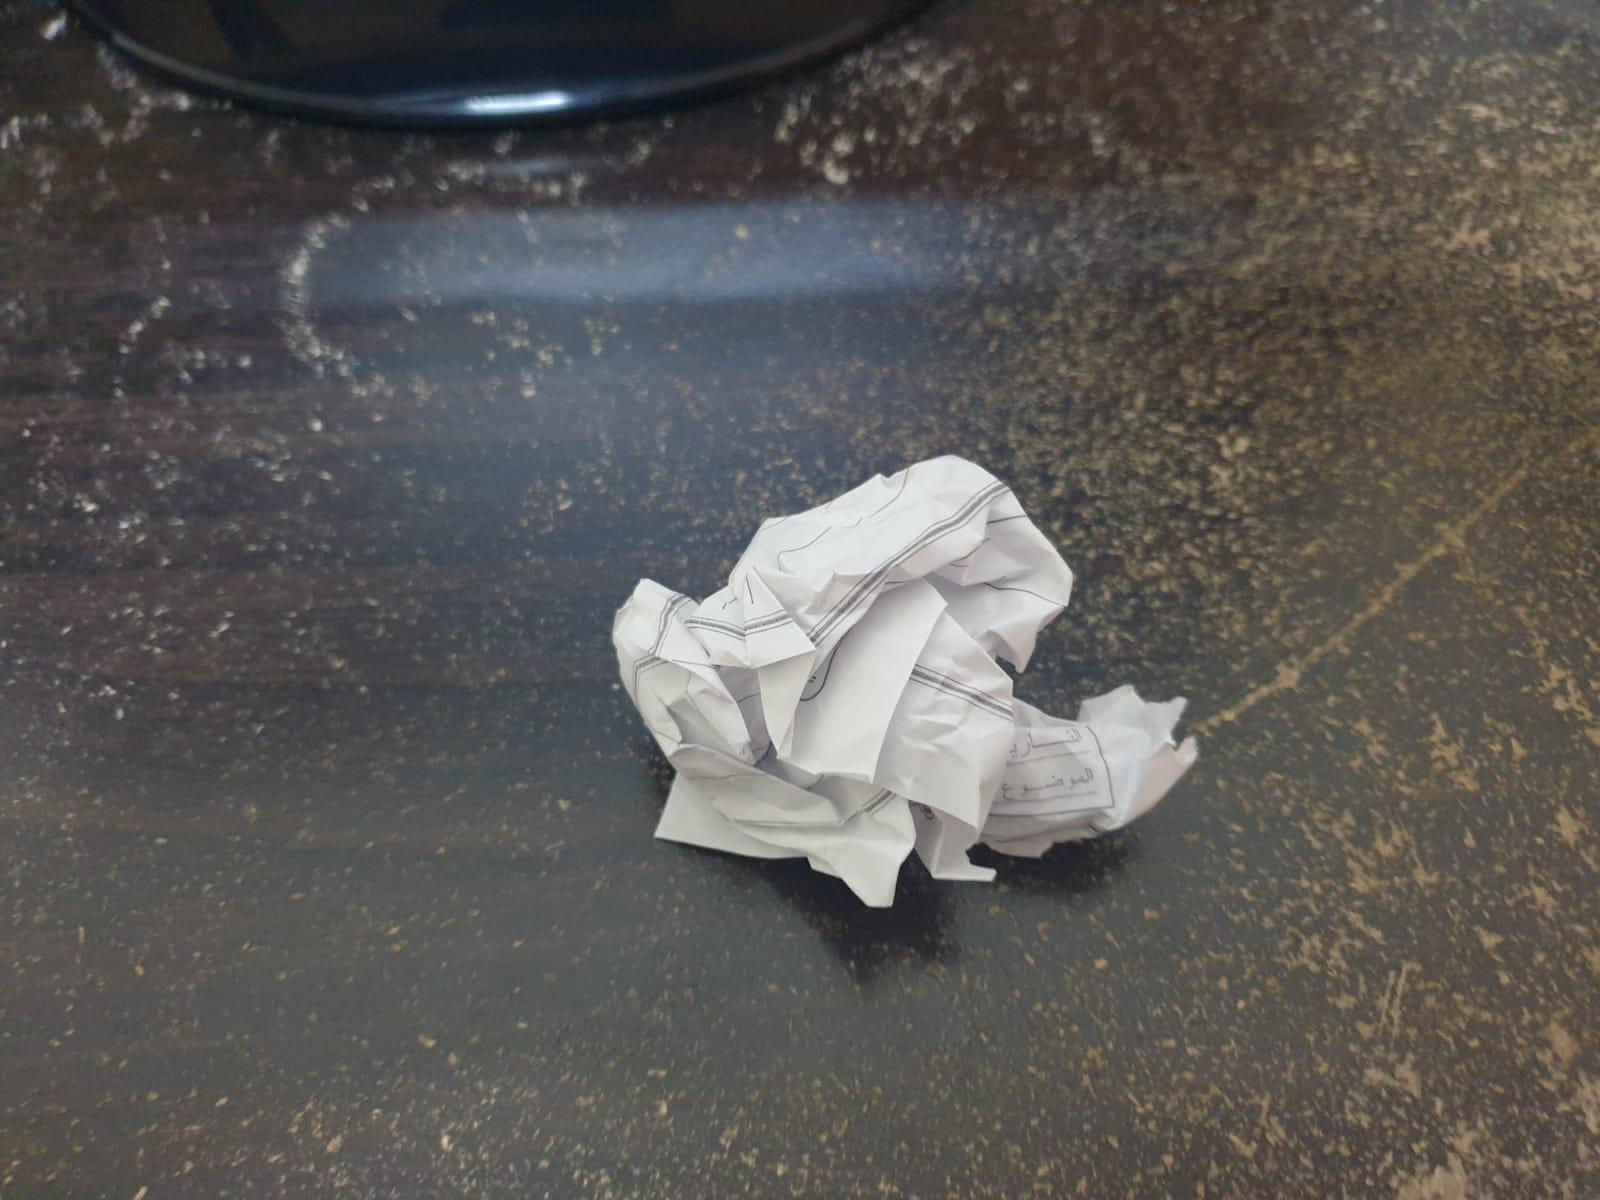Paper: (601, 406, 1203, 895)
